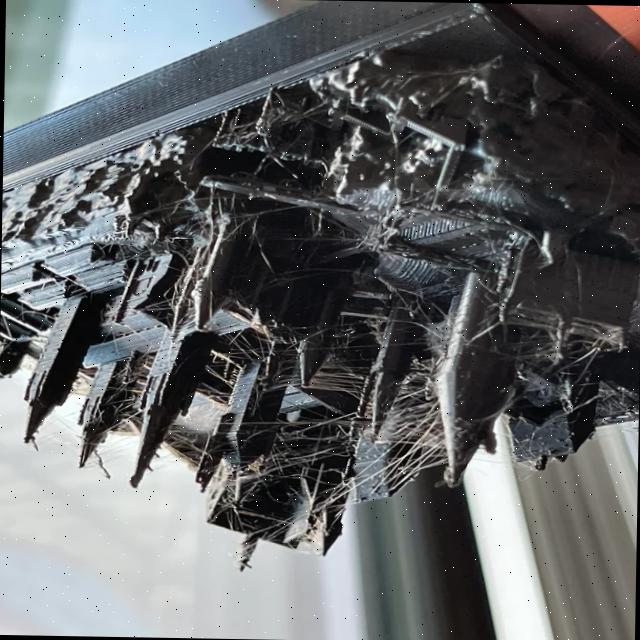stringing: (349, 376, 436, 481), (249, 404, 352, 484), (387, 416, 441, 493), (343, 462, 383, 511)
